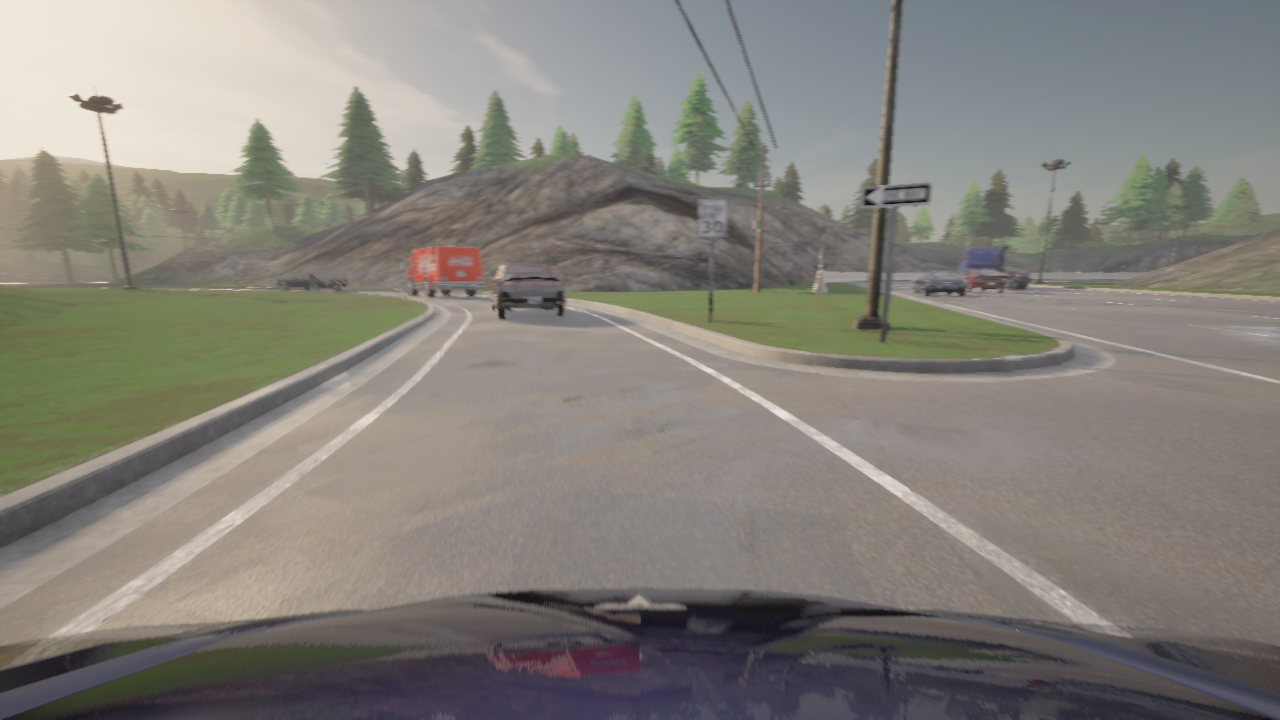cyclist: (0, 588, 1279, 719), (485, 263, 565, 318), (399, 246, 485, 297), (957, 245, 1031, 289), (911, 270, 966, 296), (276, 272, 347, 291), (957, 268, 1006, 292)
